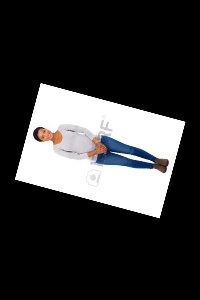arm: (56, 118, 99, 131), (54, 152, 90, 164)
chest: (61, 130, 95, 152)
face: (32, 127, 55, 141)
foot: (155, 156, 168, 164), (153, 166, 169, 171)
hand: (94, 140, 109, 154)
leg: (101, 133, 153, 157), (96, 153, 151, 166)
neck: (52, 130, 60, 144)
